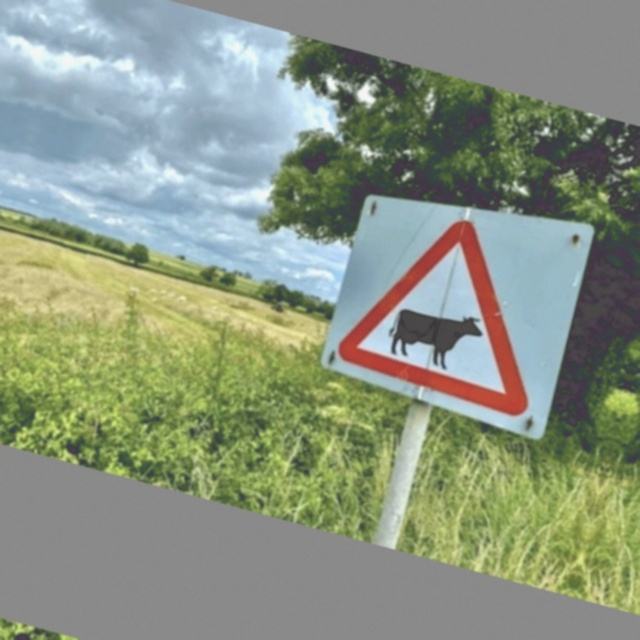Cattle: (323, 194, 576, 431)
